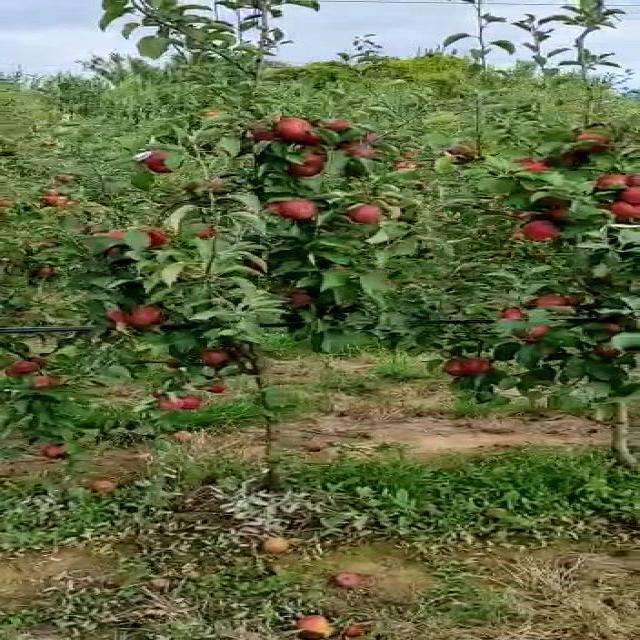100-_ripeness: (118, 305, 171, 330), (273, 202, 316, 226), (520, 219, 567, 240), (294, 150, 331, 176), (593, 171, 638, 191), (276, 117, 311, 141), (144, 148, 176, 171), (607, 200, 640, 222), (351, 202, 382, 224), (454, 359, 491, 374), (11, 359, 44, 375), (158, 395, 196, 408), (200, 353, 225, 365)
